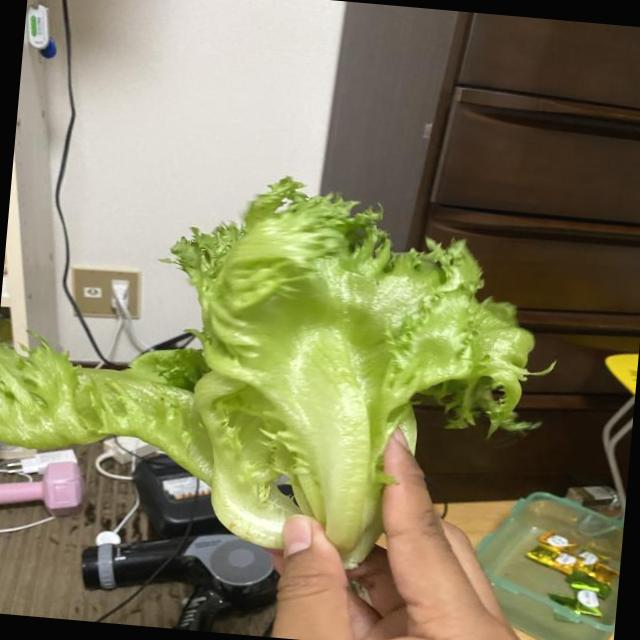Lettuce-Ready-to-Harvest: (0, 178, 533, 565)
